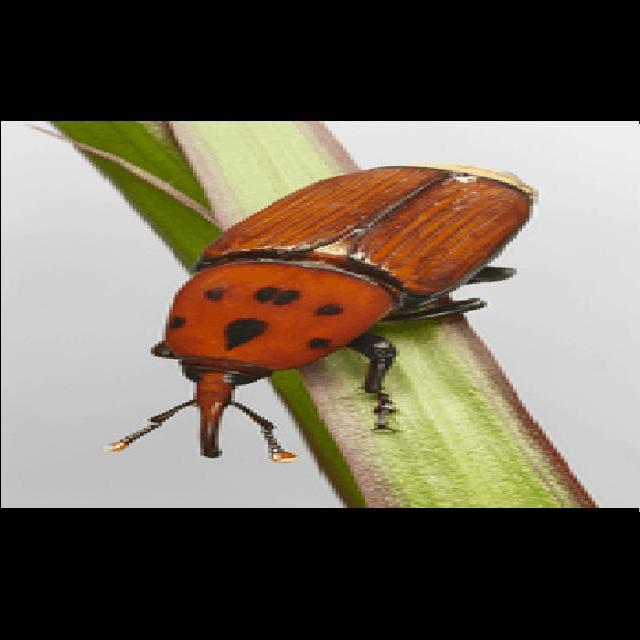Red-palm-weevil: (105, 159, 525, 464)
